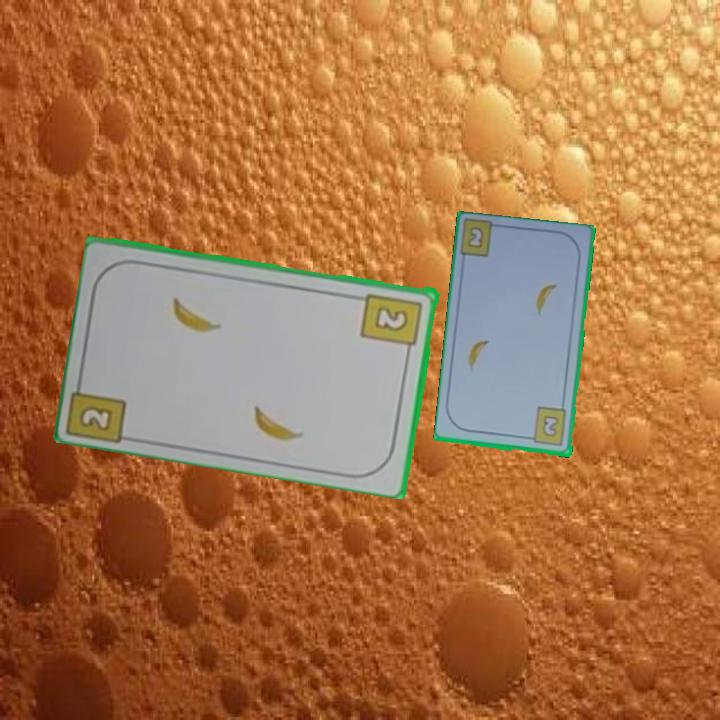2b: (358, 289, 426, 358), (524, 404, 570, 449), (76, 402, 116, 434), (466, 226, 485, 249)
